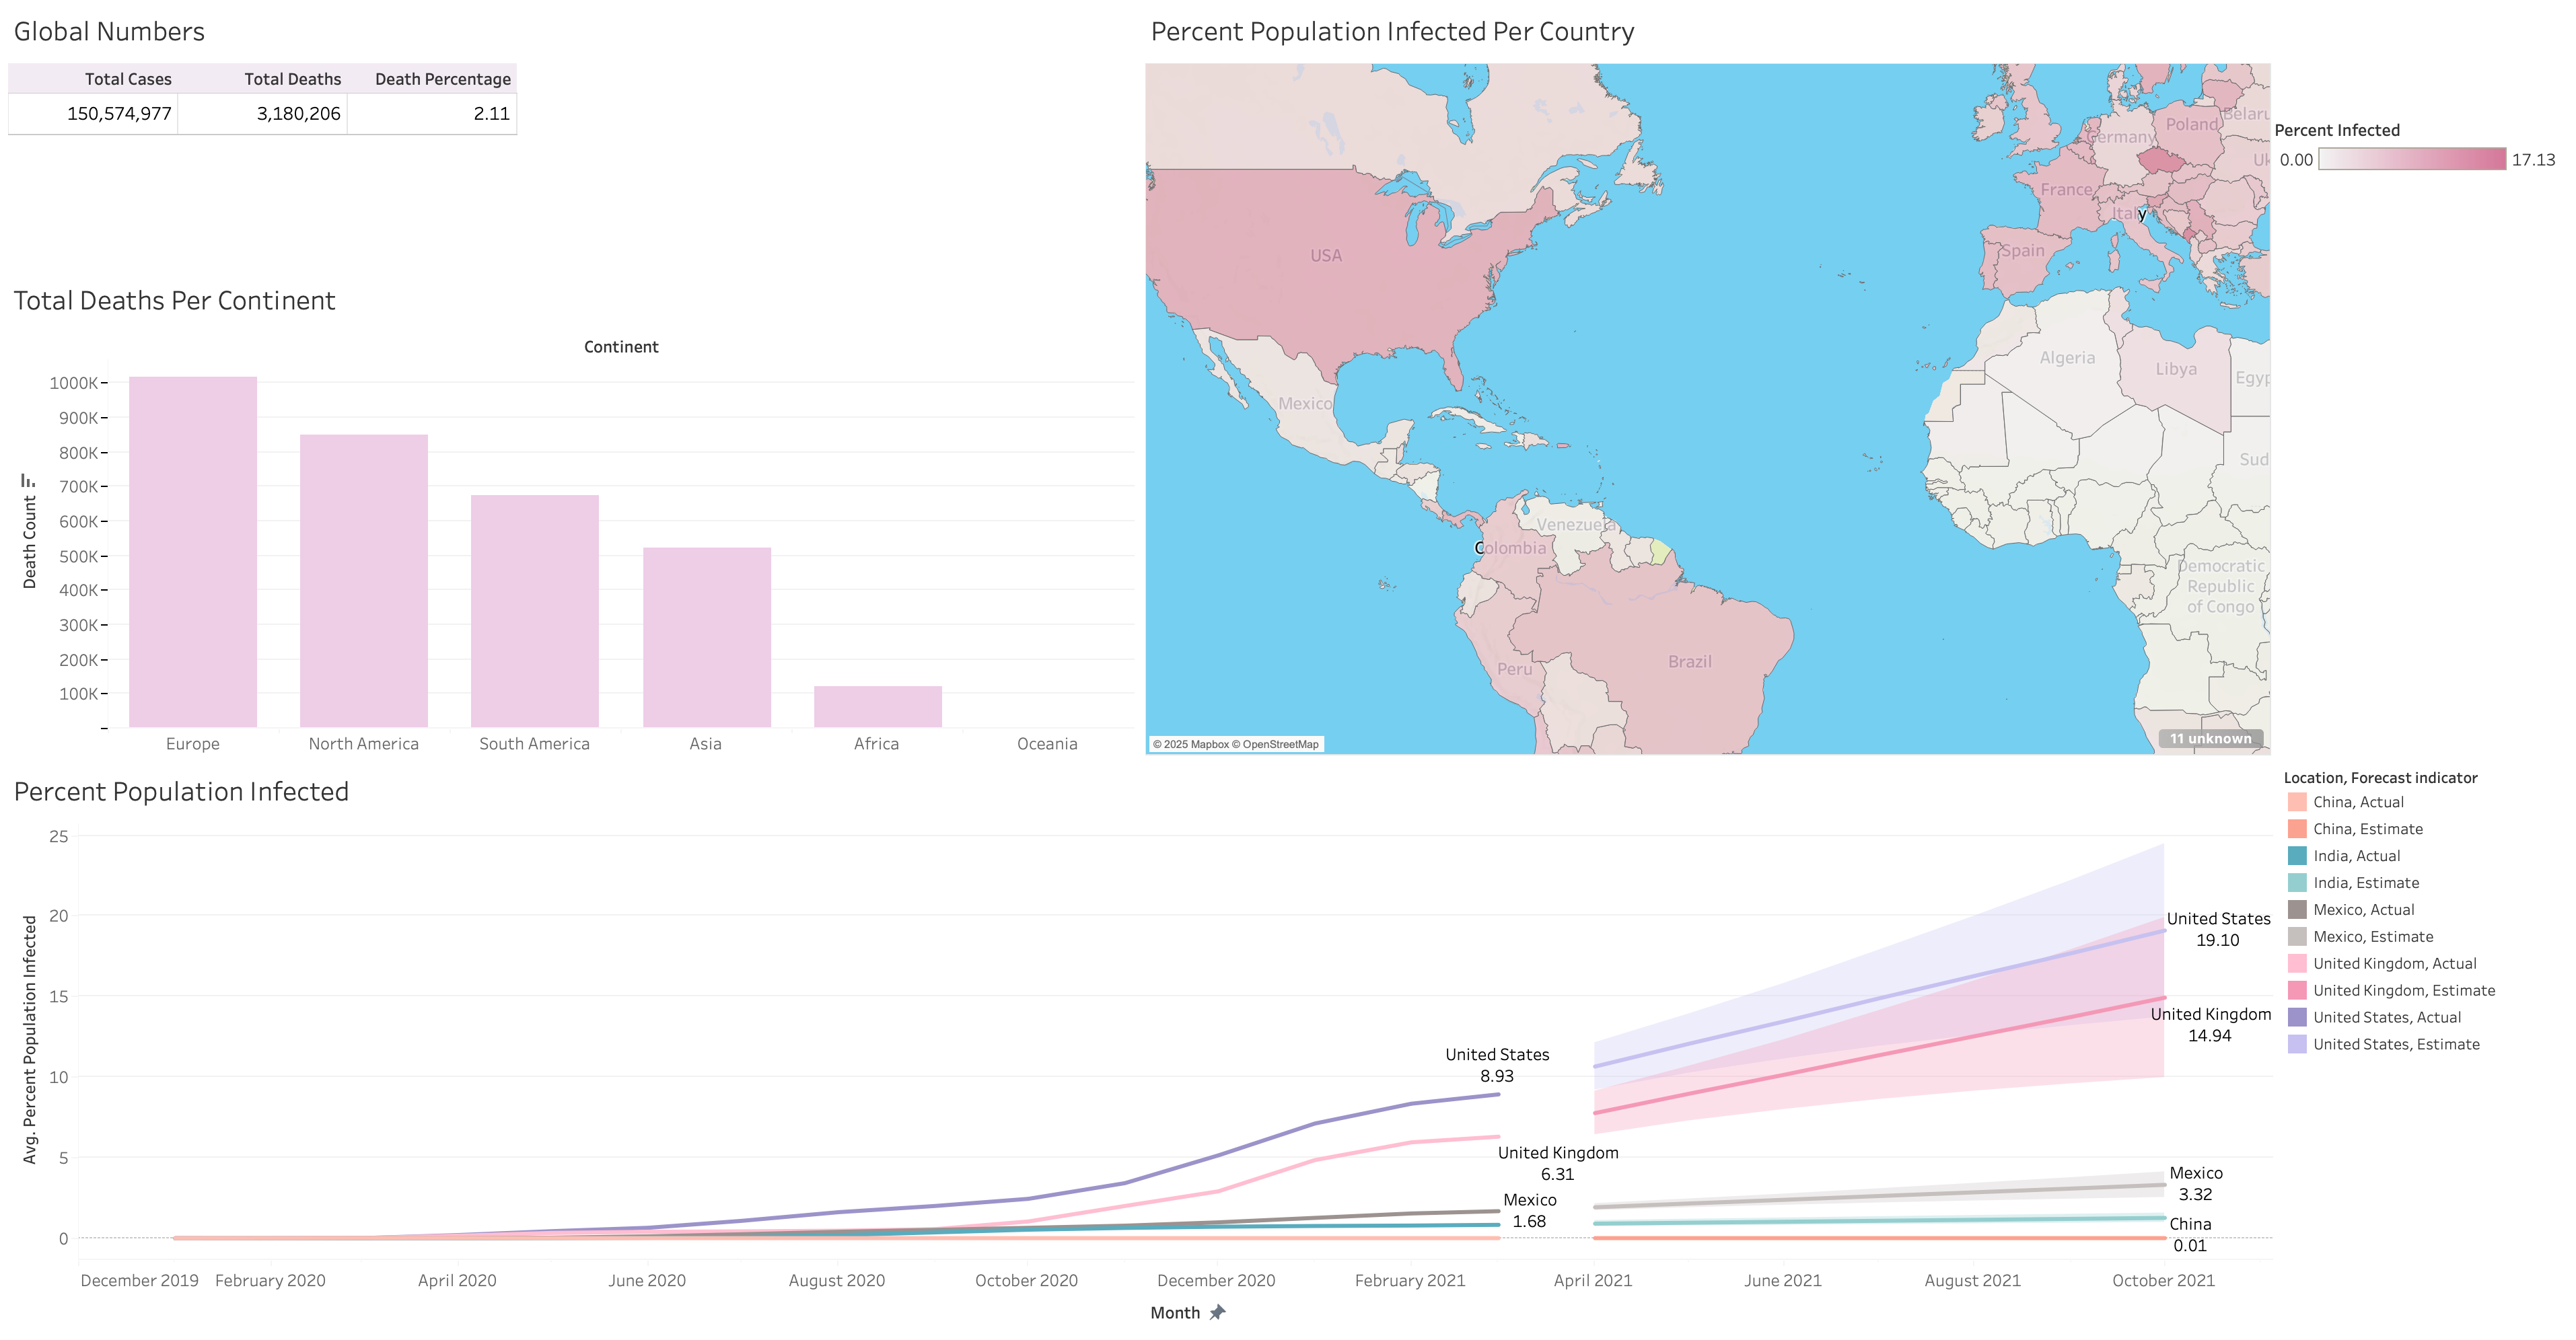

What the dashboard file says about the page in this screenshot:
{"tool":"tableau","page":{"name":"Dashboard 1","canvas":[1000,1000],"units":"permille","ordinal":0},"visuals":[{"type":"worksheet","title":"Sheet 1","mark":"Automatic","box":[6.4,14,438.2,195.8]},{"type":"worksheet","title":"Sheet 3","mark":"Automatic","box":[444.6,14,438.3,552.4]},{"type":"legend","title":"Sheet 3","param":"[federated.0ydnxij12ddpxf1aeb8080ehyhsx].[sum:percent_population_infected:qk]","box":[883.6,94.4,111.6,132.9]},{"type":"worksheet","title":"Sheet 2","mark":"Automatic","rows":["total_death_count"],"cols":["location"],"box":[6.4,209.8,438.2,356.6]},{"type":"worksheet","title":"Sheet 4","mark":"Automatic","rows":["percent_population_infected"],"cols":["date"],"box":[6.4,566.4,876.6,419.6]},{"type":"legend","title":"Sheet 4","param":"[federated.1v6gdyx151vgvk13ujtjk0m9n1ce].[none:location:nk]\n[federated.1v6gdyx15","box":[883,566.4,110.7,391.6]}]}

Visuals, with their boxes on the dashboard's canvas, which has no fixed pixel size, in thousandths of its width and height (x1, y1, x2, y2). These are canvas units, not pixel positions in the 2576x1340 screenshot, which may show the page scaled, cropped or inside an application window:
"Sheet 1" worksheet: [6,14,445,210]
"Sheet 3" worksheet: [445,14,883,566]
"Sheet 3" legend: [884,94,995,227]
"Sheet 2" worksheet: [6,210,445,566]
"Sheet 4" worksheet: [6,566,883,986]
"Sheet 4" legend: [883,566,994,958]
